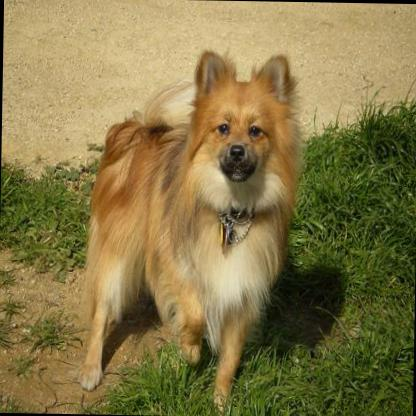Pomeranian: (70, 47, 308, 412)
